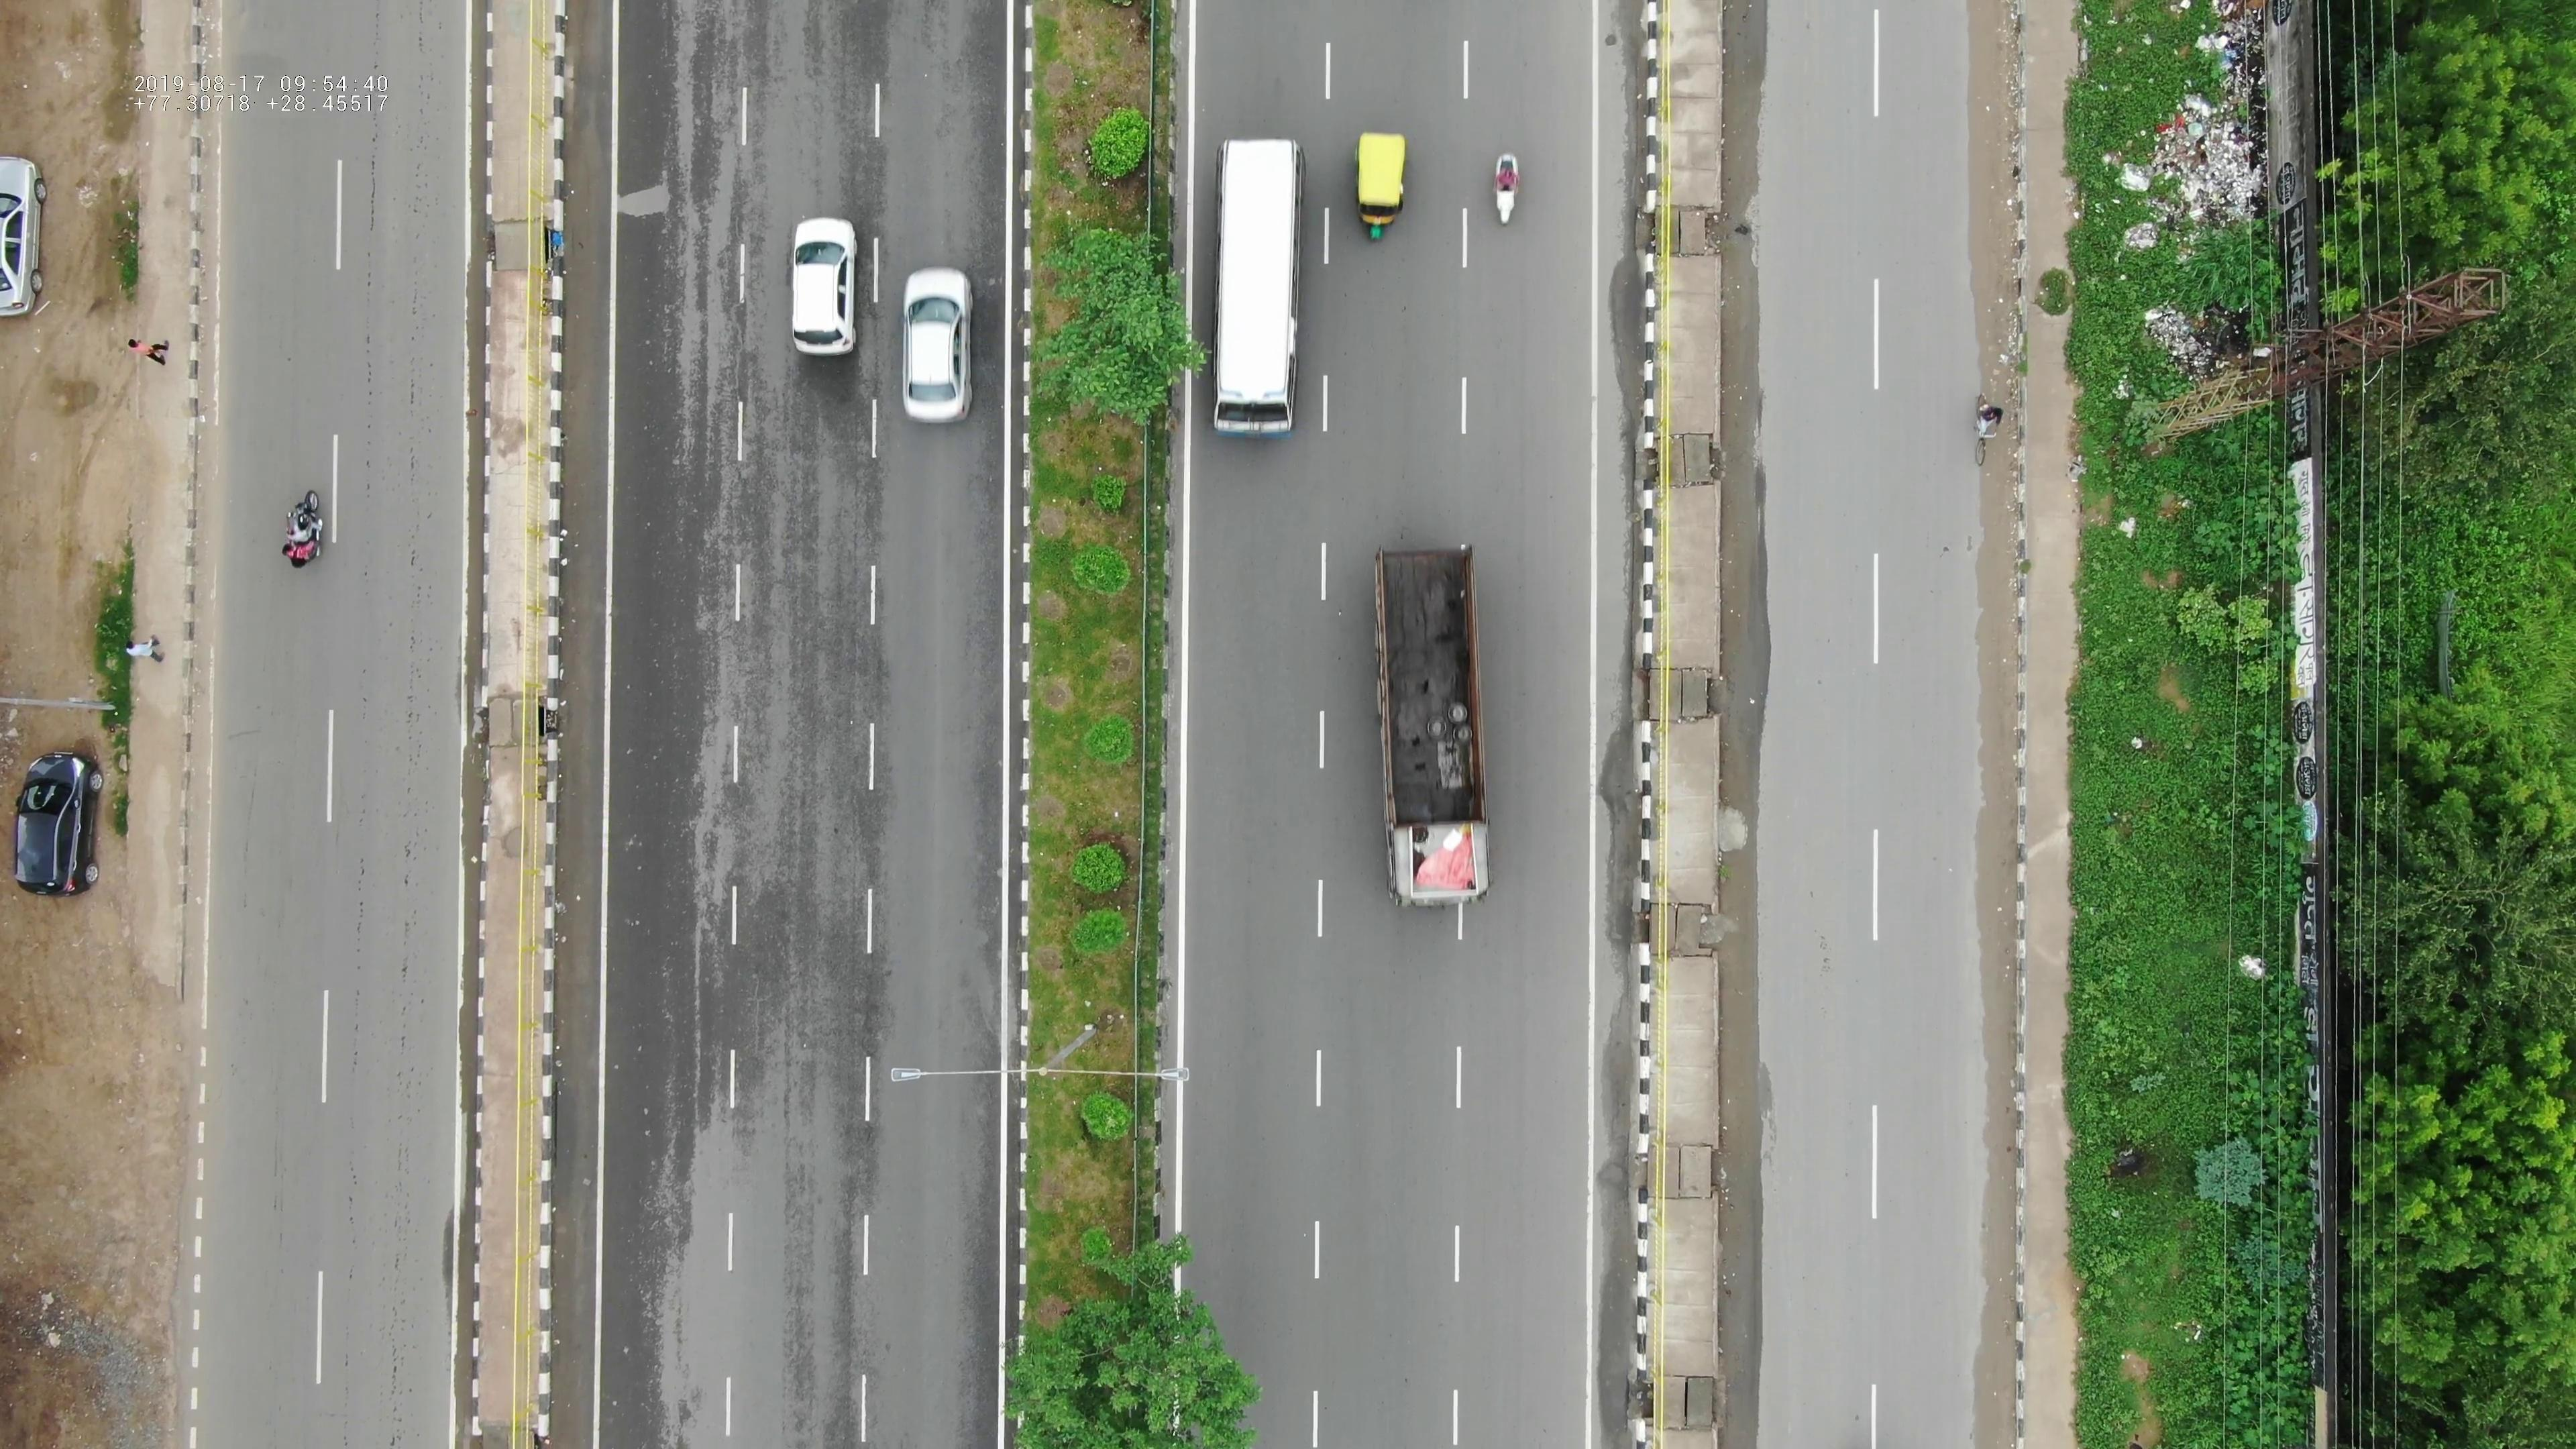Muddy_road: (119, 1039, 202, 1359), (1955, 7, 2033, 257), (1962, 474, 2024, 768), (1962, 798, 2024, 1088)
Road_side_garbage: (2091, 65, 2259, 359)
